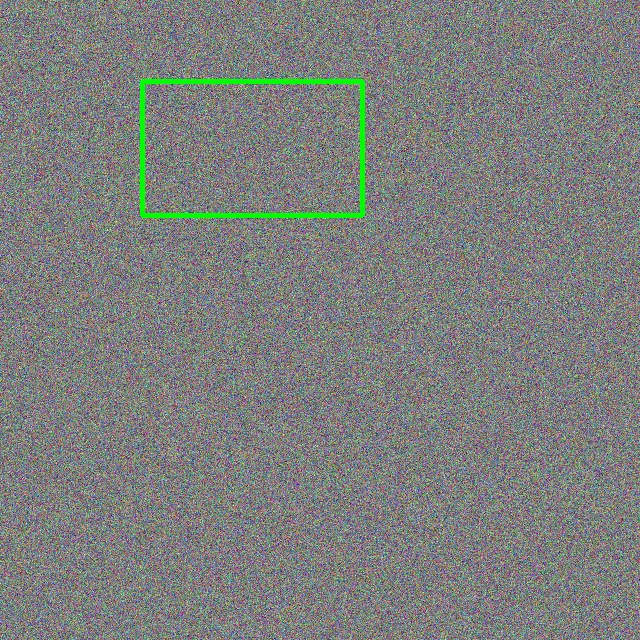base: (142, 81, 362, 215)
